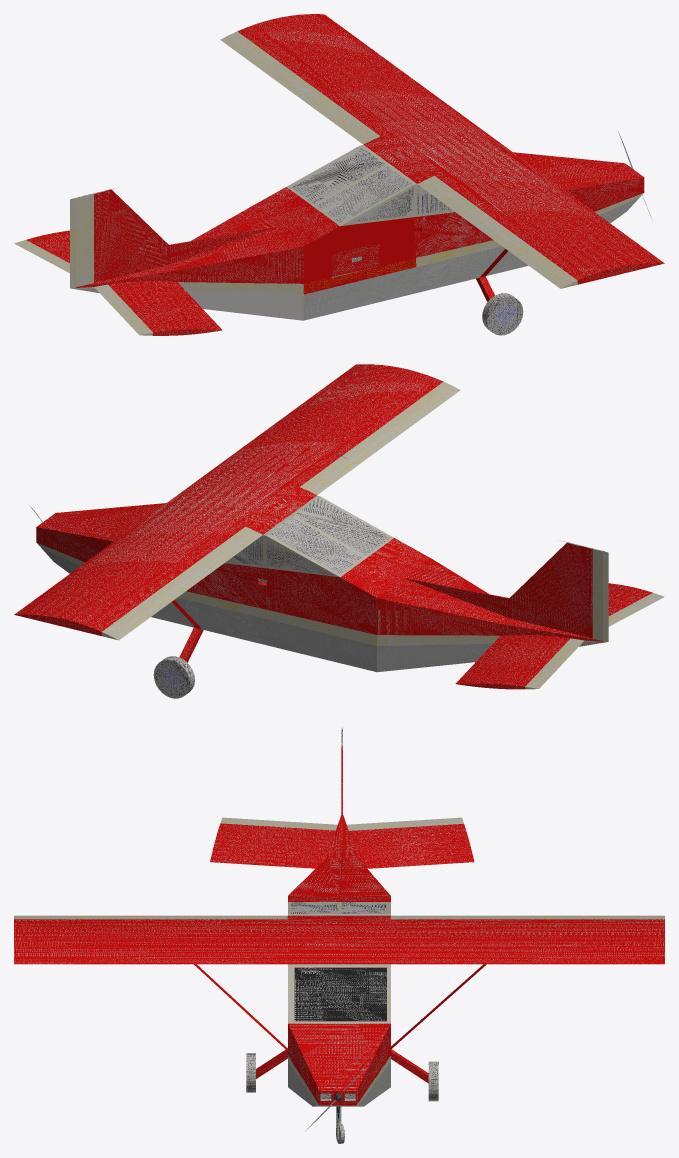
3 views of the same model, one above another, from view 1: azimuth 30°, elevation 25°; view 2: azimuth 150°, elevation 25°; view 3: azimuth 270°, elevation 25° (orthographic). The views are drawn at different scales.
Parts seen in each view (by area): view 1: mesh1_mesh1-geometry, mesh4_mesh4-geometry; view 2: mesh1_mesh1-geometry, mesh3_mesh3-geometry; view 3: mesh1_mesh1-geometry.
Boxes of the visible parts, x1,y1,x2,y2 form: mesh1_mesh1-geometry: [14, 14, 664, 335]; mesh4_mesh4-geometry: [482, 293, 523, 335]; mesh1_mesh1-geometry: [14, 364, 664, 689]; mesh3_mesh3-geometry: [153, 656, 194, 698]; mesh1_mesh1-geometry: [14, 727, 664, 1143].
Bounding box in the file's own units: 0.675 × 0.2295 × 0.7013.
